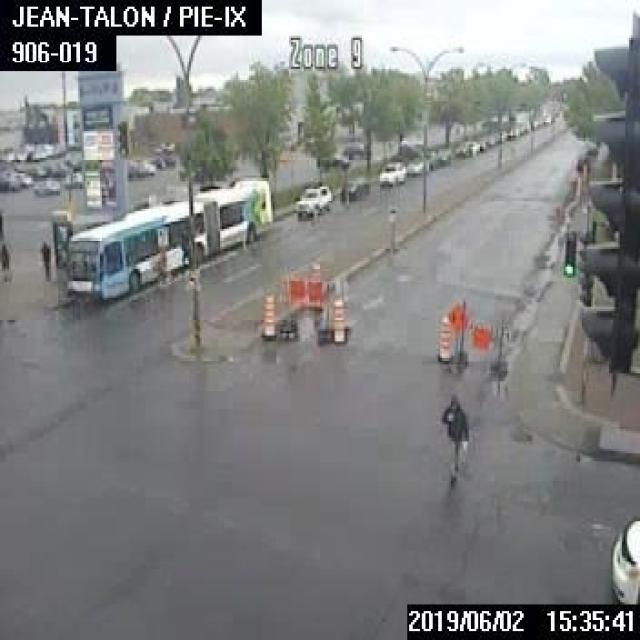bus: (63, 171, 274, 300)
construction: (448, 298, 511, 372), (433, 311, 450, 361), (328, 293, 344, 342), (259, 290, 274, 338)
pedestrian: (438, 389, 469, 489), (36, 238, 51, 278), (0, 241, 9, 281)
vehicle: (276, 269, 349, 342), (606, 514, 638, 602), (292, 184, 330, 217), (376, 161, 403, 187), (338, 176, 367, 199), (315, 152, 346, 170), (342, 140, 370, 158), (34, 175, 58, 194), (404, 155, 426, 173), (422, 147, 438, 168), (432, 145, 449, 164), (63, 172, 83, 186), (12, 171, 32, 185), (462, 139, 478, 152), (453, 142, 469, 154), (154, 141, 173, 150), (475, 138, 485, 149), (162, 155, 174, 164)
